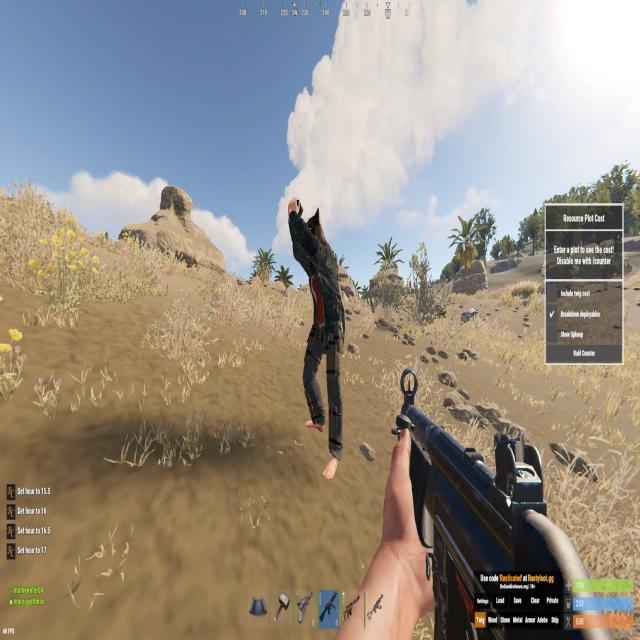Player: (288, 198, 345, 481)
